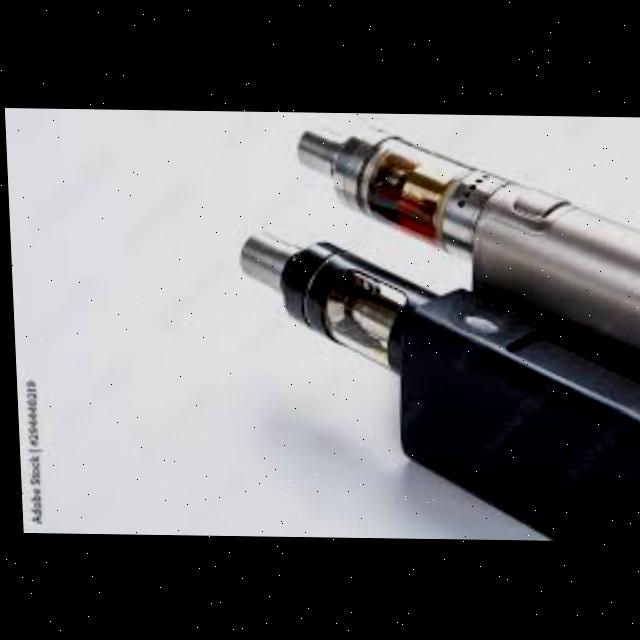vape: (236, 226, 640, 540), (296, 123, 640, 358)
